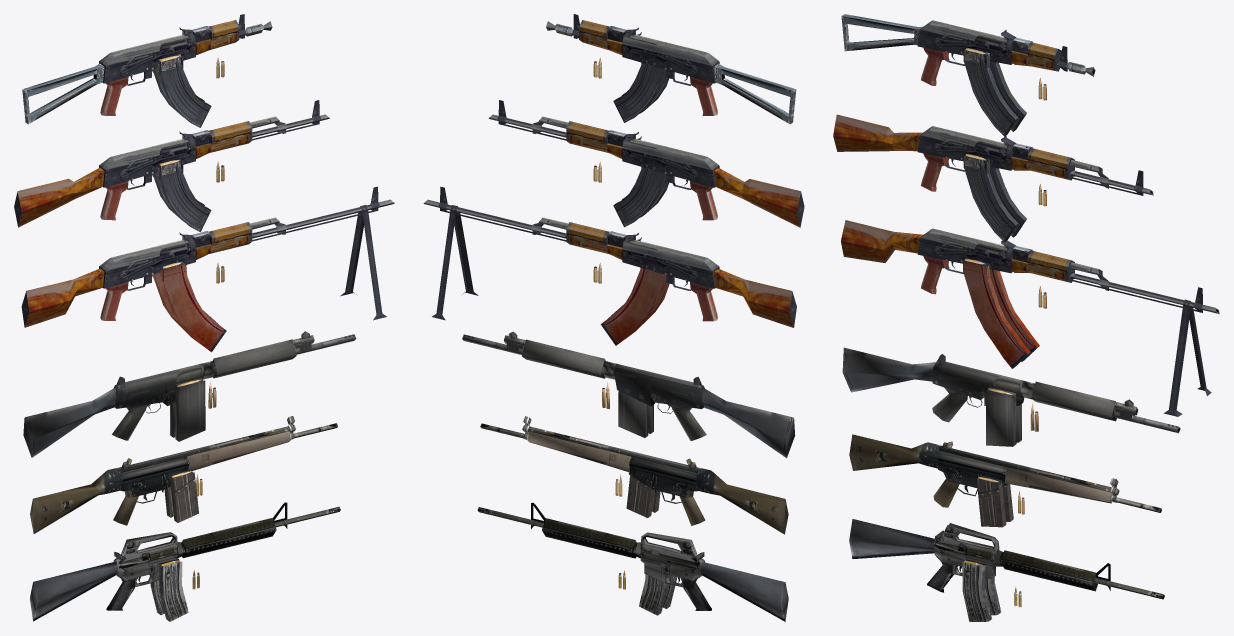
3 renders of one model, left to right at view 1: azimuth 30°, elevation 25°; view 2: azimuth 150°, elevation 25°; view 3: azimuth 330°, elevation 25°, orthographic.
Visible parts, largest first — view 1: RPK, FAL, AKM, M16, G3, AK74U, RPK_Mag_Full, AK74U_Mag_Full, AKM_Mag_Full, FAL_Magazene.Full, M16_Mag_Full, G3Magazene_Full; view 2: RPK, FAL, AKM, M16, G3, AK74U, RPK_Mag_Empty, AKM_Mag_Empty, AK74U_Mag_Empty, FAL_Magazene, G3Magazene, M16_Mag; view 3: RPK, FAL, AKM, M16, G3, AK74U, RPK_Mag_Full, AKM_Mag_Full, AK74U_Mag_Full, FAL_Magazene.Full, M16_Mag_Full, G3Magazene_Full (+3 smaller).
Boxes of the visible parts, x1=… form: RPK: x1=21, y1=186, x2=394, y2=327; FAL: x1=23, y1=331, x2=356, y2=457; AKM: x1=14, y1=100, x2=329, y2=227; M16: x1=30, y1=502, x2=340, y2=621; G3: x1=30, y1=416, x2=337, y2=533; AK74U: x1=22, y1=14, x2=272, y2=124; RPK_Mag_Full: x1=160, y1=261, x2=226, y2=352; AK74U_Mag_Full: x1=157, y1=54, x2=211, y2=127; AKM_Mag_Full: x1=157, y1=158, x2=211, y2=231; FAL_Magazene.Full: x1=175, y1=378, x2=205, y2=441; M16_Mag_Full: x1=159, y1=558, x2=188, y2=621; G3Magazene_Full: x1=169, y1=469, x2=198, y2=522; RPK: x1=423, y1=186, x2=796, y2=327; FAL: x1=462, y1=331, x2=795, y2=458; AKM: x1=488, y1=100, x2=804, y2=227; M16: x1=477, y1=502, x2=788, y2=621; G3: x1=480, y1=416, x2=788, y2=534; AK74U: x1=546, y1=14, x2=796, y2=124; RPK_Mag_Empty: x1=600, y1=267, x2=666, y2=345; AKM_Mag_Empty: x1=613, y1=167, x2=666, y2=227; AK74U_Mag_Empty: x1=613, y1=62, x2=666, y2=122; FAL_Magazene: x1=618, y1=391, x2=648, y2=437; G3Magazene: x1=626, y1=475, x2=653, y2=517; M16_Mag: x1=639, y1=574, x2=667, y2=615; RPK: x1=841, y1=220, x2=1219, y2=416; FAL: x1=842, y1=347, x2=1180, y2=433; AKM: x1=833, y1=114, x2=1153, y2=195; M16: x1=849, y1=519, x2=1164, y2=599; G3: x1=849, y1=434, x2=1161, y2=512; AK74U: x1=841, y1=14, x2=1095, y2=85; RPK_Mag_Full: x1=963, y1=258, x2=1030, y2=368; AKM_Mag_Full: x1=963, y1=153, x2=1018, y2=242; AK74U_Mag_Full: x1=963, y1=48, x2=1018, y2=136; FAL_Magazene.Full: x1=986, y1=387, x2=1016, y2=446; M16_Mag_Full: x1=962, y1=559, x2=991, y2=621; G3Magazene_Full: x1=976, y1=475, x2=1006, y2=527.
Bounding box in the file's own units: 5.41 × 7.94 × 0.8238.
